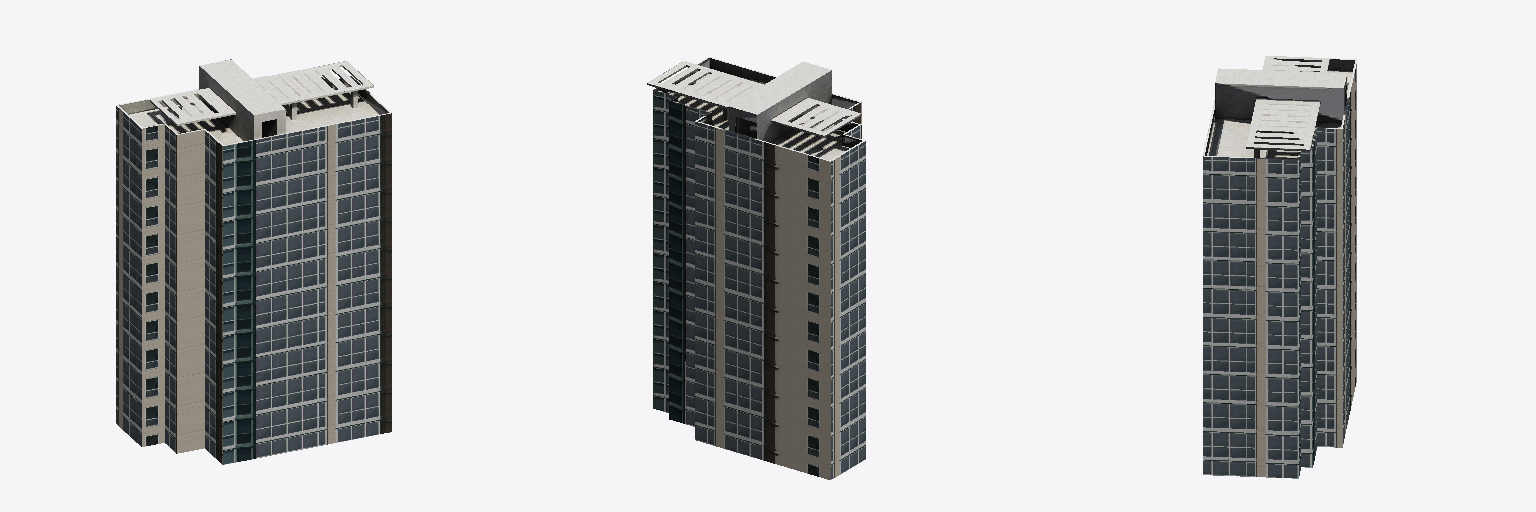
3 views of the same model, side by side, from view 1: azimuth 30°, elevation 25°; view 2: azimuth 150°, elevation 25°; view 3: azimuth 270°, elevation 25° (orthographic).
Parts seen in each view (by area): view 1: JZ_JX_13; view 2: JZ_JX_13; view 3: JZ_JX_13.
Boxes of the visible parts, <box> form: JZ_JX_13: <box>116,59,391,464</box>; JZ_JX_13: <box>647,57,865,479</box>; JZ_JX_13: <box>1203,56,1356,478</box>.
Bounding box in the file's own units: 2430 × 3750 × 1536.
2 materials, 2 textured.